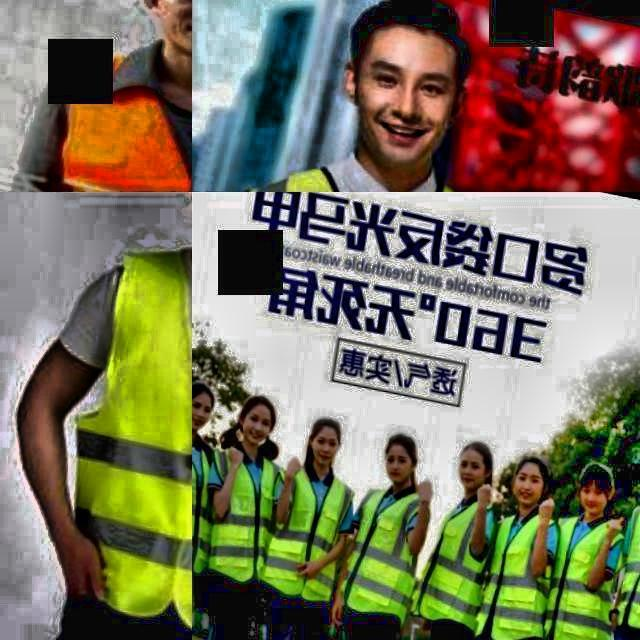safety_jacket: (62, 229, 192, 637), (33, 38, 192, 192), (276, 463, 350, 597), (556, 510, 630, 634), (489, 505, 558, 637), (357, 487, 432, 608), (218, 453, 284, 582), (432, 491, 493, 616), (192, 430, 222, 567)
